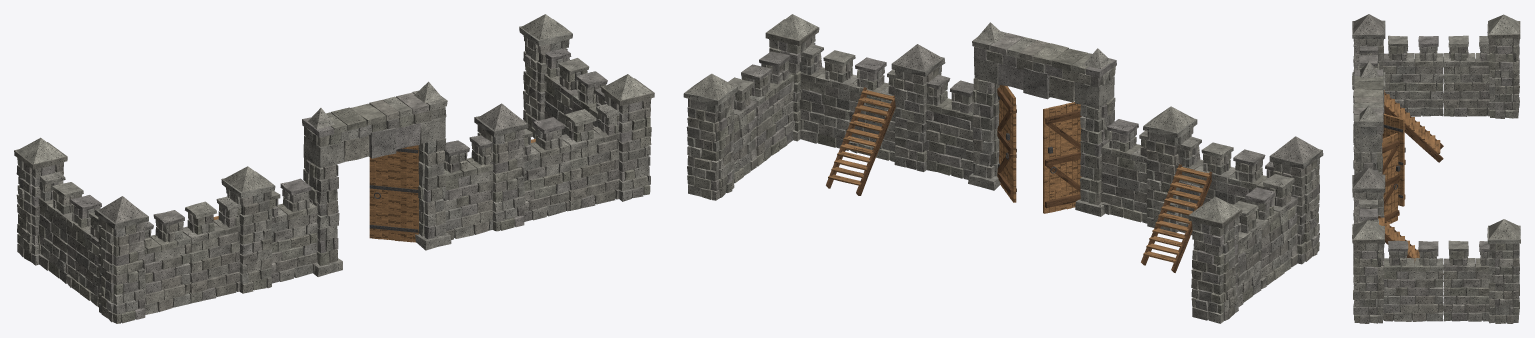
Rendered from muralha_exemplo.glb.
3 renders of one model, left to right at view 1: azimuth 30°, elevation 25°; view 2: azimuth 150°, elevation 25°; view 3: azimuth 270°, elevation 25°, orthographic. The views are drawn at different scales.
Visible parts, largest first — view 1: muro_pedra_pedra (×9), torre_pedra_pedra (×6), portal_pedra_pedra, muro_ameias_pedra (×10), portao_grande_dir_madeira, portao_grande_dir_ferro; view 2: torre_pedra_pedra (×6), muro_pedra_pedra (×10), portal_pedra_pedra, muro_ameias_pedra (×10), escada_madeira (×2), portao_grande_esq_madeira, escada_madeira_escura (×2), portao_grande_dir_madeira, portao_grande_esq_madeira_escura, portao_grande_dir_madeira_escura; view 3: muro_pedra_pedra (×4), torre_pedra_pedra (×6), muro_ameias_pedra (×6), portal_pedra_pedra, escada_madeira (×2), portao_grande_dir_madeira, portao_grande_esq_madeira, portao_grande_dir_madeira_escura, escada_madeira_escura.
Boxes of the visible parts, bbox=[...] form: muro_pedra_pedra (×9): bbox=[38, 74, 620, 314]; torre_pedra_pedra (×6): bbox=[14, 14, 654, 323]; portal_pedra_pedra: bbox=[302, 81, 451, 276]; muro_ameias_pedra (×10): bbox=[39, 48, 619, 247]; portao_grande_dir_madeira: bbox=[369, 145, 419, 242]; portao_grande_dir_ferro: bbox=[369, 148, 418, 232]; torre_pedra_pedra (×6): bbox=[683, 14, 1323, 323]; muro_pedra_pedra (×10): bbox=[732, 67, 1297, 306]; portal_pedra_pedra: bbox=[968, 22, 1116, 216]; muro_ameias_pedra (×10): bbox=[728, 44, 1294, 240]; escada_madeira (×2): bbox=[828, 90, 1209, 262]; portao_grande_esq_madeira: bbox=[1043, 102, 1081, 213]; escada_madeira_escura (×2): bbox=[826, 87, 1212, 272]; portao_grande_dir_madeira: bbox=[998, 85, 1016, 202]; portao_grande_esq_madeira_escura: bbox=[1045, 110, 1081, 208]; portao_grande_dir_madeira_escura: bbox=[997, 87, 1013, 195]; muro_pedra_pedra (×4): bbox=[1383, 53, 1489, 321]; torre_pedra_pedra (×6): bbox=[1352, 14, 1520, 323]; muro_ameias_pedra (×6): bbox=[1359, 35, 1489, 266]; portal_pedra_pedra: bbox=[1352, 61, 1383, 225]; escada_madeira (×2): bbox=[1378, 90, 1440, 259]; portao_grande_dir_madeira: bbox=[1382, 132, 1398, 223]; portao_grande_esq_madeira: bbox=[1382, 113, 1404, 206]; portao_grande_dir_madeira_escura: bbox=[1382, 140, 1399, 221]; escada_madeira_escura: bbox=[1384, 92, 1443, 162].
Size of the model in its own units: 25.66 by 7.51 by 8.36.
Materials: 4 (4 with a texture image).
